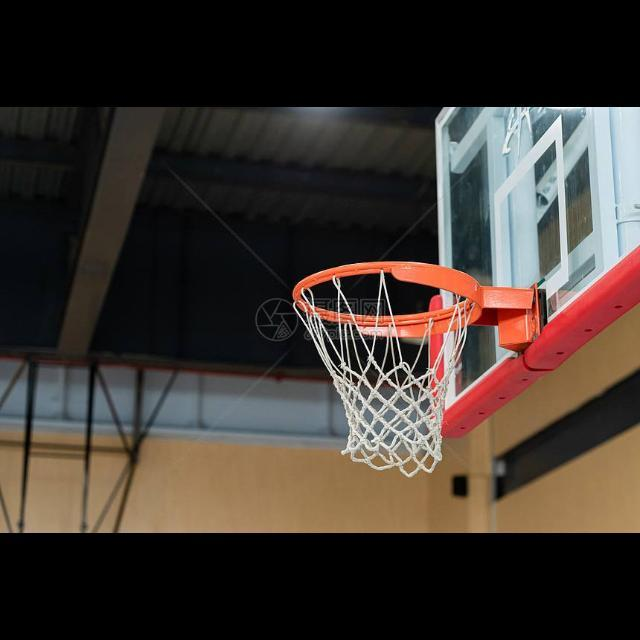rim: (293, 262, 481, 478)
